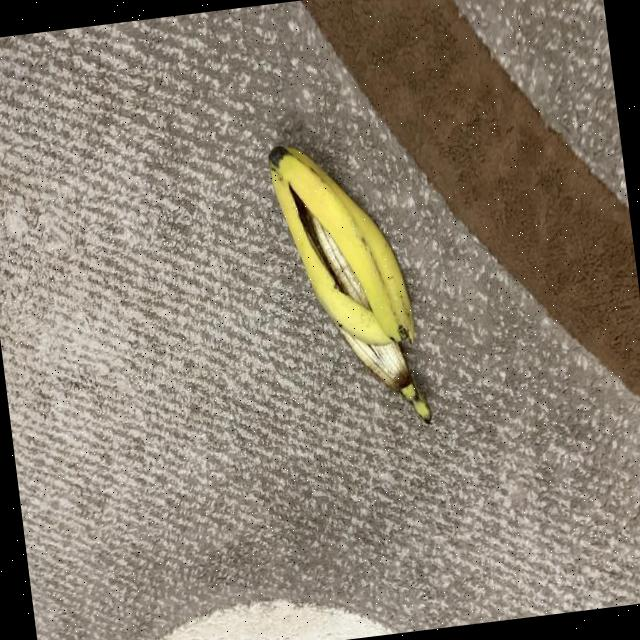banana-peel: (263, 128, 433, 438)
